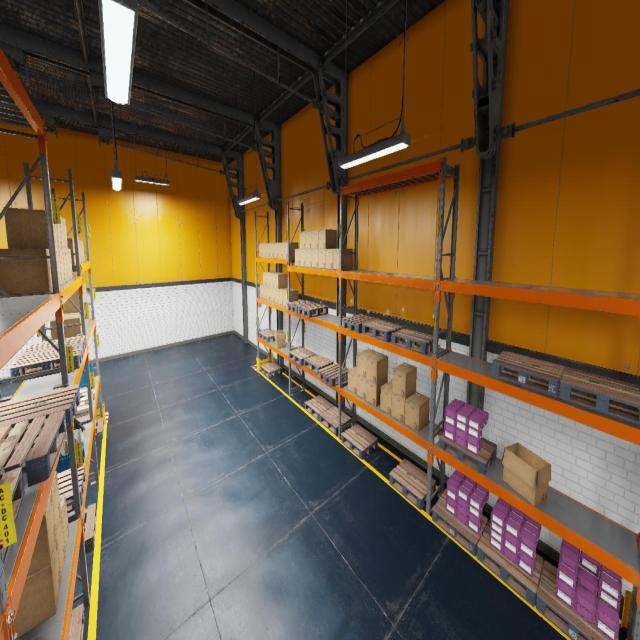box: (14, 538, 61, 638), (502, 442, 551, 506), (0, 248, 53, 296), (27, 491, 56, 577), (3, 208, 59, 248), (404, 392, 430, 432), (392, 362, 417, 398), (50, 314, 82, 340), (50, 471, 61, 536), (392, 392, 415, 423), (366, 352, 388, 384), (56, 515, 66, 580), (366, 378, 387, 407), (357, 348, 377, 378), (60, 494, 69, 554), (63, 288, 80, 314), (380, 380, 392, 416), (333, 249, 353, 270), (318, 229, 337, 249), (282, 242, 298, 258), (278, 288, 293, 305), (348, 366, 357, 394), (67, 238, 76, 265), (283, 290, 298, 306), (357, 374, 366, 400), (274, 329, 286, 348), (74, 404, 90, 418), (56, 249, 62, 285), (274, 273, 287, 289), (270, 272, 283, 288), (59, 249, 65, 283), (266, 272, 279, 287), (62, 217, 68, 249), (62, 250, 68, 282), (80, 391, 93, 404), (262, 272, 274, 286), (60, 216, 65, 249), (53, 312, 80, 318), (68, 249, 73, 278), (318, 250, 326, 268), (326, 249, 333, 269), (66, 249, 70, 280), (57, 224, 62, 248), (82, 390, 95, 399), (312, 249, 318, 268), (312, 230, 318, 249), (306, 230, 312, 249), (306, 250, 312, 268), (294, 249, 300, 266), (82, 283, 87, 301), (300, 231, 305, 249), (300, 250, 305, 266), (278, 243, 283, 258), (82, 284, 86, 301), (78, 240, 81, 262), (274, 288, 278, 304), (87, 301, 90, 322), (81, 241, 84, 261), (82, 241, 85, 261), (274, 243, 278, 258), (270, 243, 274, 258), (80, 388, 88, 395), (270, 288, 274, 302), (266, 286, 270, 300), (259, 284, 263, 298), (266, 243, 270, 257), (262, 244, 266, 257), (77, 401, 85, 407), (80, 240, 82, 262), (82, 286, 84, 308), (263, 286, 266, 299), (259, 244, 262, 257), (85, 315, 87, 330), (86, 319, 88, 327), (88, 319, 89, 324)
pallets: (536, 560, 619, 639), (476, 520, 544, 606), (0, 410, 67, 487), (0, 384, 80, 446), (558, 367, 640, 425), (432, 489, 488, 556), (491, 351, 565, 396), (9, 344, 83, 383), (439, 432, 497, 475), (389, 458, 436, 509), (0, 467, 24, 563), (57, 464, 86, 514), (341, 423, 377, 459), (22, 335, 86, 355), (391, 328, 433, 354), (362, 319, 404, 342), (319, 406, 351, 435), (304, 395, 334, 420), (341, 314, 379, 333), (83, 502, 97, 553), (318, 363, 349, 386), (68, 604, 85, 639), (304, 354, 333, 374), (288, 347, 316, 366), (297, 303, 328, 317), (286, 300, 315, 313), (260, 362, 282, 378), (259, 329, 275, 342), (95, 417, 104, 440)
